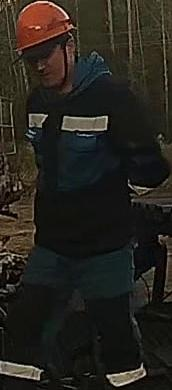helmet: (14, 0, 76, 53)
vest: (28, 74, 135, 256)
